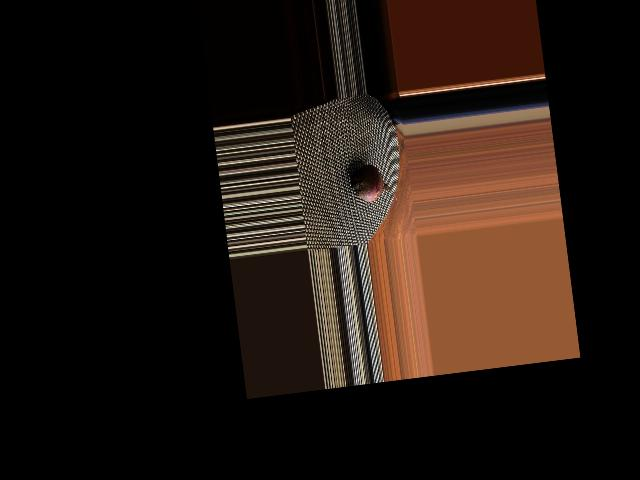beet: (346, 156, 397, 209)
